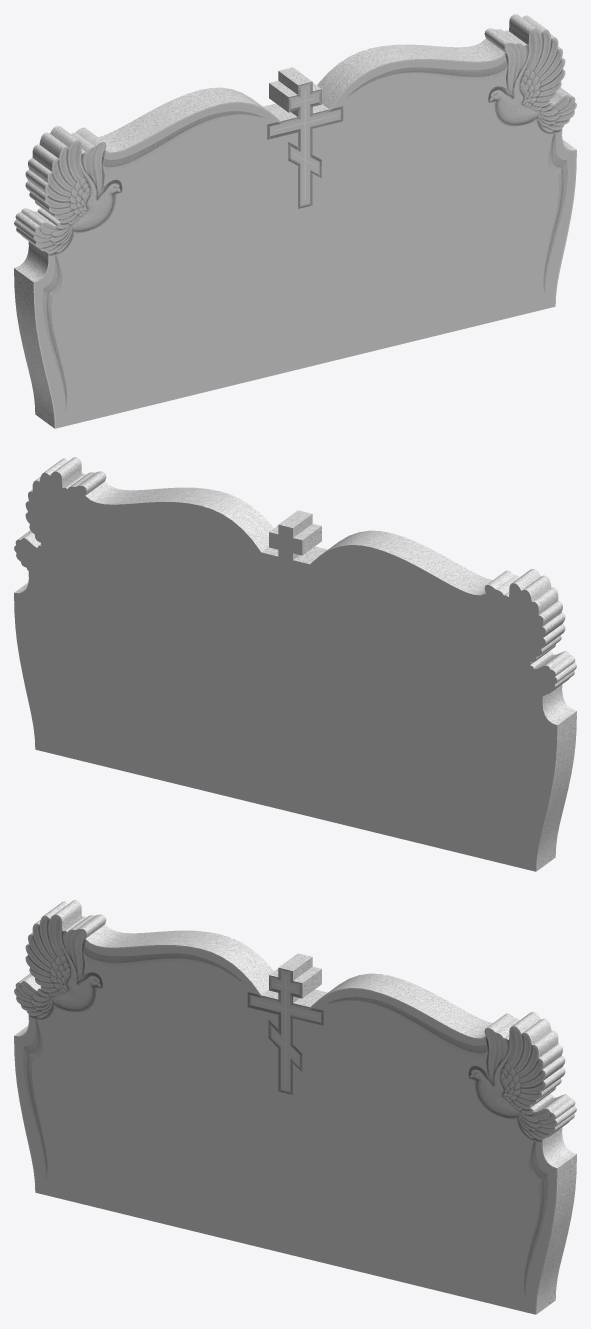
Rendered from cn02de31d5d6_tkf.glb.
The picture shows the model from 3 angles, top to bottom: view 1: azimuth 30°, elevation 25°; view 2: azimuth 150°, elevation 25°; view 3: azimuth 330°, elevation 25°; orthographic projection.
Parts seen in each view (by area): view 1: Pam-d03-273, Pam-d03-273_2_notexture; view 2: Pam-d03-273, Pam-d03-273_2_notexture; view 3: Pam-d03-273, Pam-d03-273_2_notexture.
Boxes of the visible parts, x1,y1,x2,y2 form: Pam-d03-273: (34,55,575,428); Pam-d03-273_2_notexture: (14,14,576,428); Pam-d03-273: (14,471,557,871); Pam-d03-273_2_notexture: (14,457,576,871); Pam-d03-273: (15,941,556,1314); Pam-d03-273_2_notexture: (14,900,576,1314).
Size of the model in its own units: 0.8 by 0.4 by 0.05.
1 material, 1 textured.
